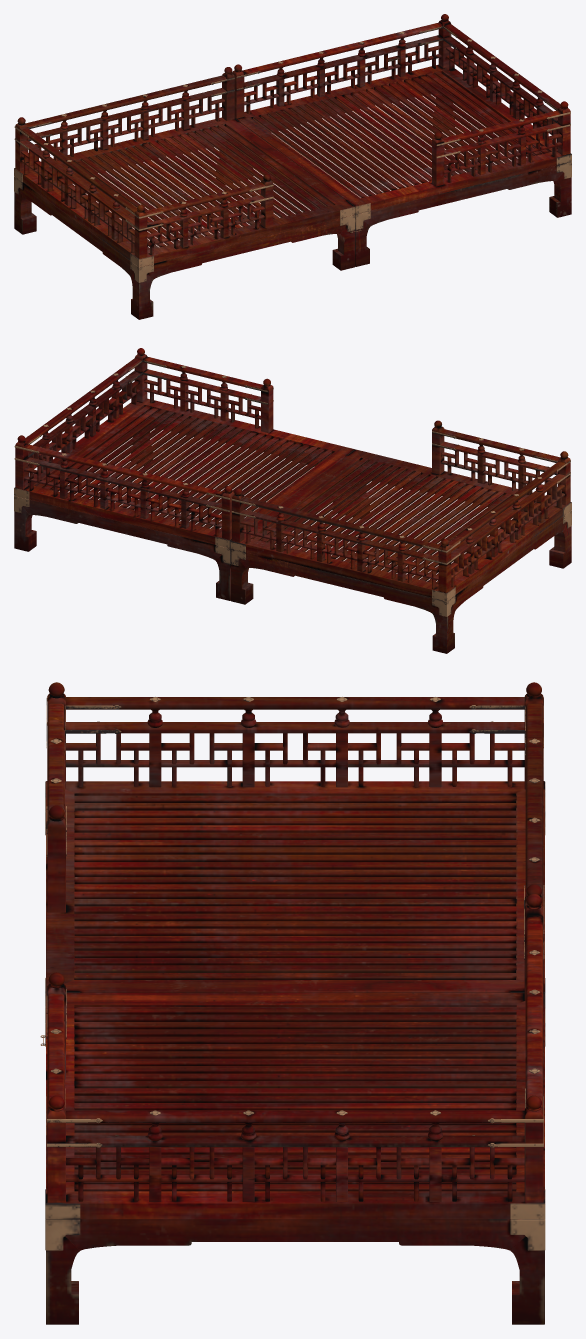
Rendered from SM_Bedstead.fbx.
3 renders of one model, top to bottom at view 1: azimuth 30°, elevation 25°; view 2: azimuth 150°, elevation 25°; view 3: azimuth 270°, elevation 25°, orthographic. The views are drawn at different scales.
Visible parts, largest first — view 1: SM_Bedstead; view 2: SM_Bedstead; view 3: SM_Bedstead.
Part boxes in pixels (bbox=[...]): SM_Bedstead: bbox=[14, 14, 571, 319]; SM_Bedstead: bbox=[14, 348, 571, 653]; SM_Bedstead: bbox=[40, 682, 545, 1324].
Bounding box in the file's own units: 198 × 48.85 × 99.88.
